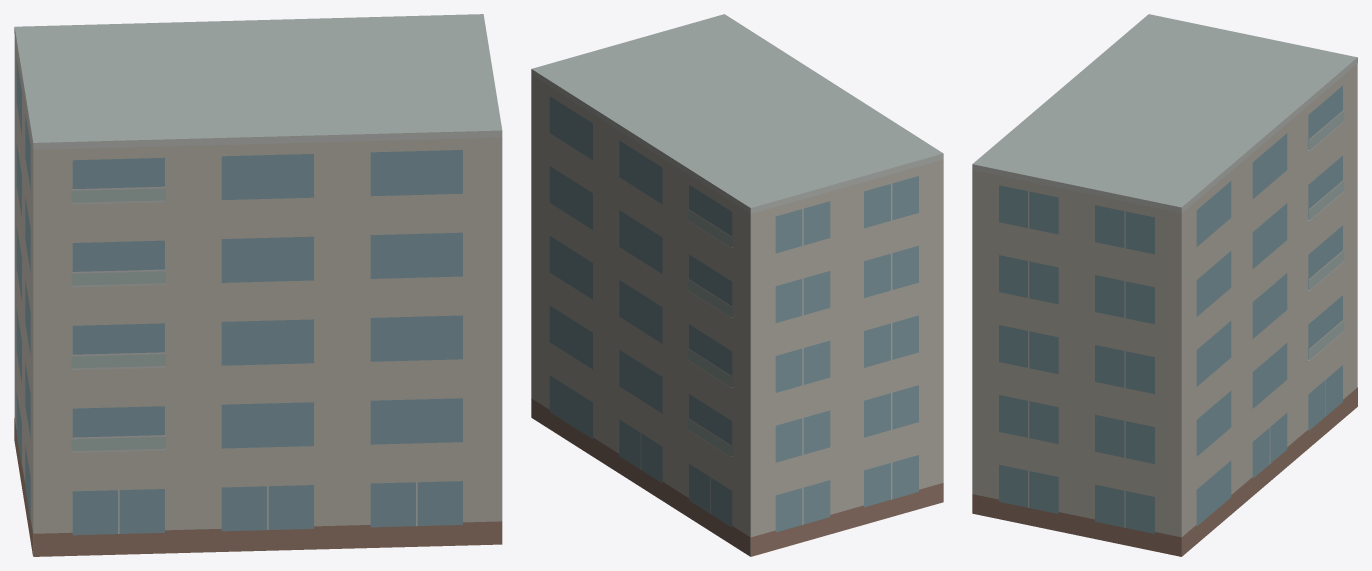
Rendered from survey-upis-32854324.glb.
3 renders of one model, left to right at view 1: azimuth 30°, elevation 25°; view 2: azimuth 150°, elevation 25°; view 3: azimuth 270°, elevation 25°, orthographic. The views are drawn at different scales.
Visible parts, largest first — view 1: survey-upis-32854324.tmp; view 2: survey-upis-32854324.tmp; view 3: survey-upis-32854324.tmp.
Part boxes in pixels (<box>): survey-upis-32854324.tmp: <box>14,14,502,556</box>; survey-upis-32854324.tmp: <box>531,14,943,556</box>; survey-upis-32854324.tmp: <box>972,14,1357,556</box>.
Size of the model in its own units: 17.11 by 14.4 by 14.41.
